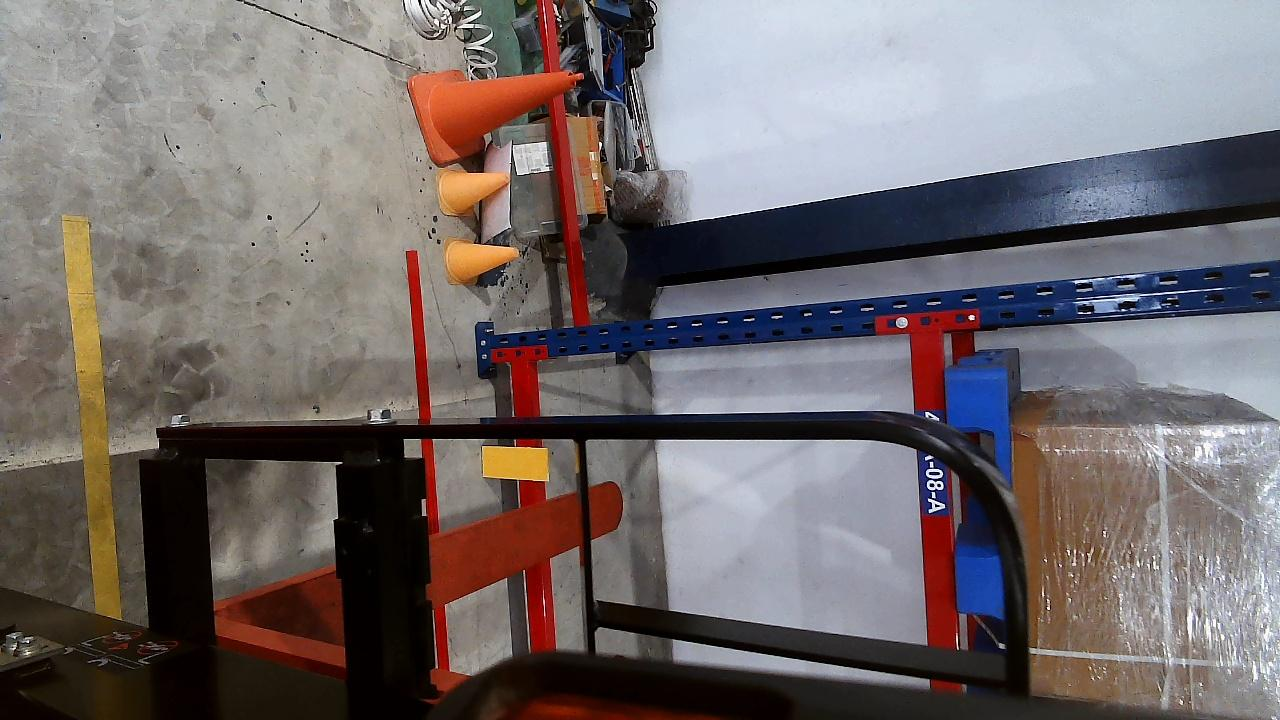h_rack: (908, 326, 962, 647), (506, 361, 560, 646)
orange_strip: (481, 446, 548, 480)
red_line: (405, 249, 456, 662)
small_pallet: (945, 367, 1049, 649)
yellow_line: (59, 215, 120, 621)
